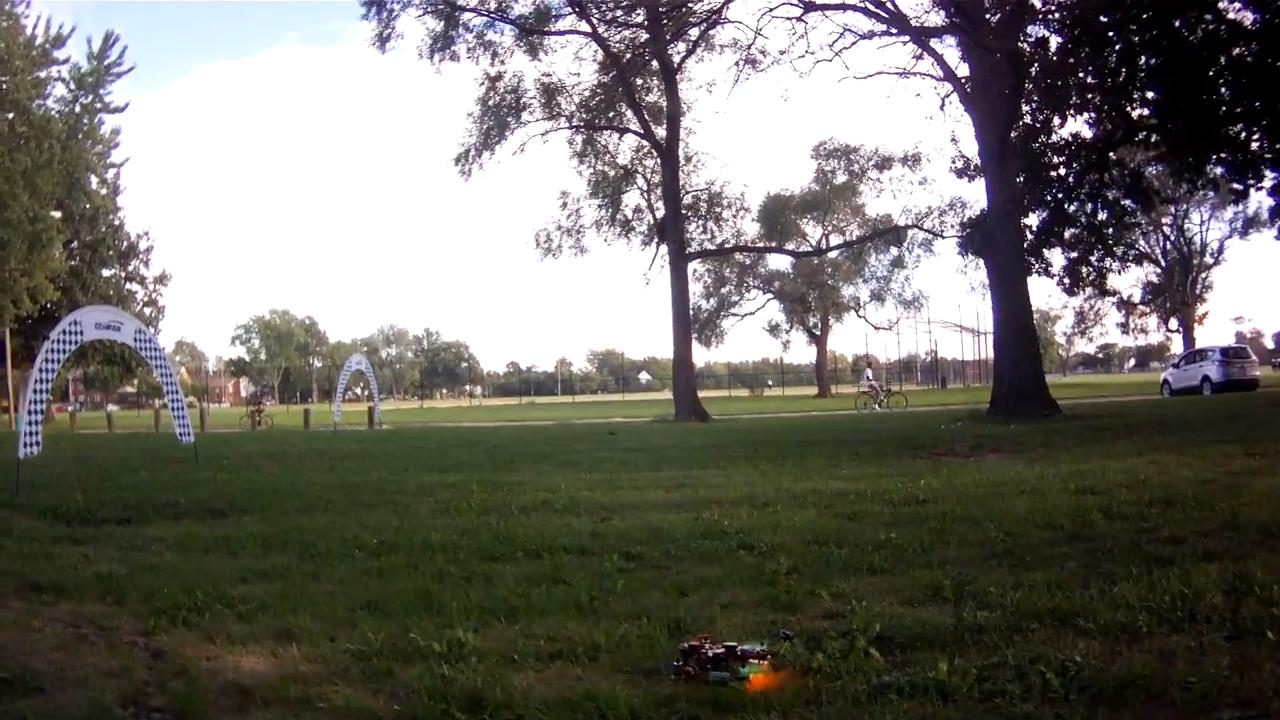gate: (15, 304, 197, 461)
